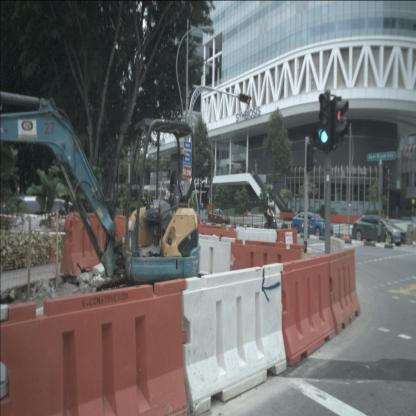barrier: (0, 278, 188, 416), (181, 263, 287, 416), (281, 254, 336, 366), (230, 239, 306, 291), (60, 212, 111, 276), (329, 247, 360, 335), (180, 233, 236, 278), (112, 215, 148, 261), (234, 227, 277, 263), (195, 225, 236, 261), (276, 228, 298, 255)
